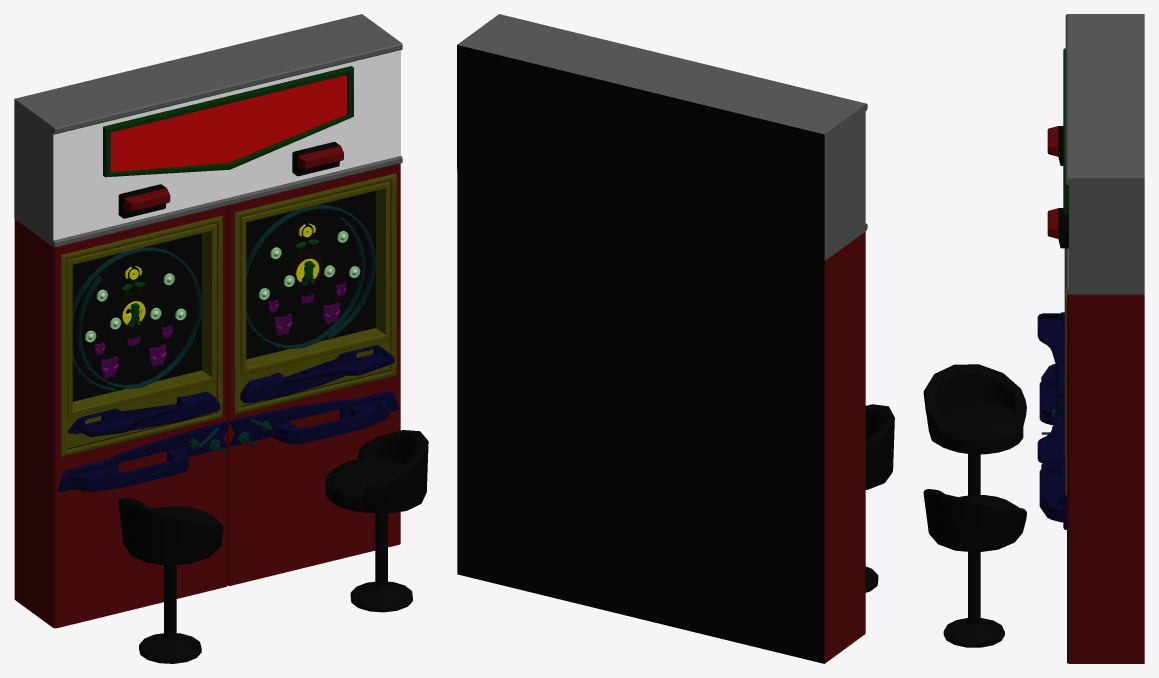
Rendered from SM_pachinko_machine.fbx.
3 renders of one model, left to right at view 1: azimuth 30°, elevation 25°; view 2: azimuth 150°, elevation 25°; view 3: azimuth 270°, elevation 25°, orthographic. The views are drawn at different scales.
Visible parts, largest first — view 1: pachinko_combine_lp; view 2: pachinko_combine_lp; view 3: pachinko_combine_lp.
Part boxes in pixels (x1,y1,x2,y2): pachinko_combine_lp: [14, 14, 428, 663]; pachinko_combine_lp: [457, 14, 894, 663]; pachinko_combine_lp: [923, 14, 1144, 663].
Bounding box in the file's own units: 212 × 293 × 120.
